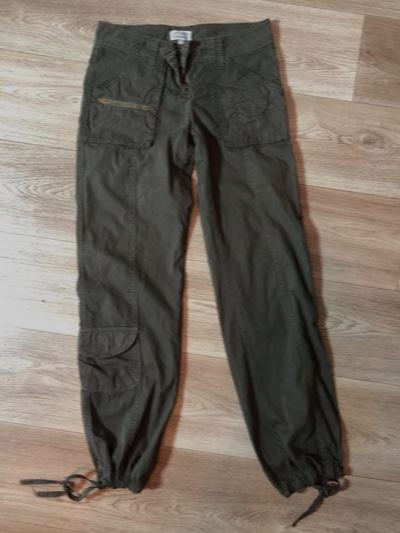Pants: (50, 33, 363, 515)
